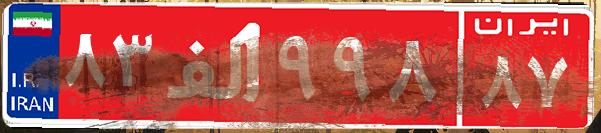3: (110, 28, 158, 105)
7: (525, 38, 570, 115)
8: (385, 28, 445, 110), (57, 26, 110, 107), (475, 38, 525, 113)
9: (273, 28, 330, 110), (330, 28, 385, 110)
الف: (158, 15, 273, 115)
